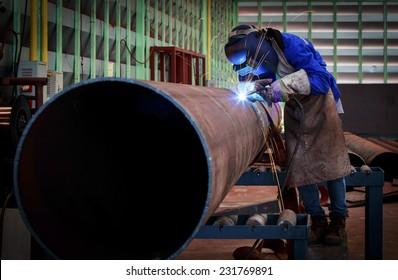gloves: (270, 68, 311, 102), (239, 78, 272, 101)
